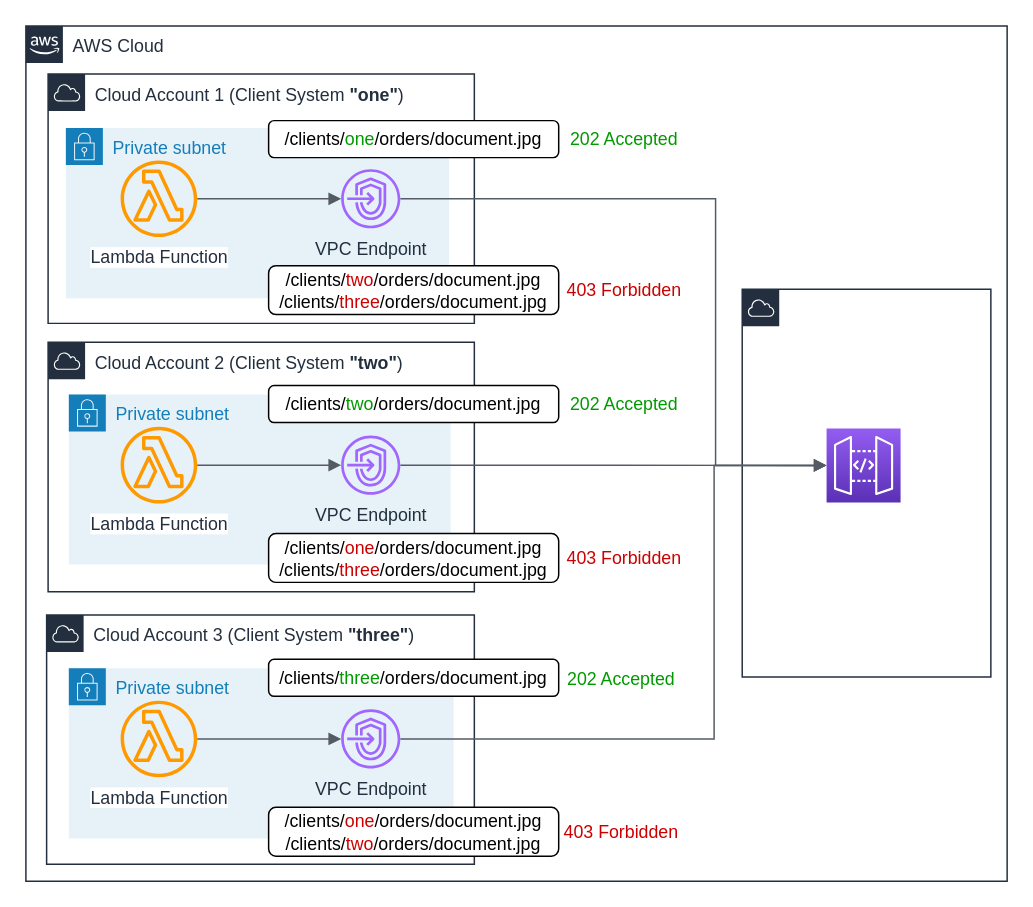
Some shapes in this 1033 by 907 pixel diagram are drawn without their labels. Here are the shapes that lost their labels. From the top down, the box of each, then its label:
(825, 427, 901, 502): API Gateway REST API (Private Endpoint) File Ingestion
(741, 288, 991, 677): Cloud Account (Service)
